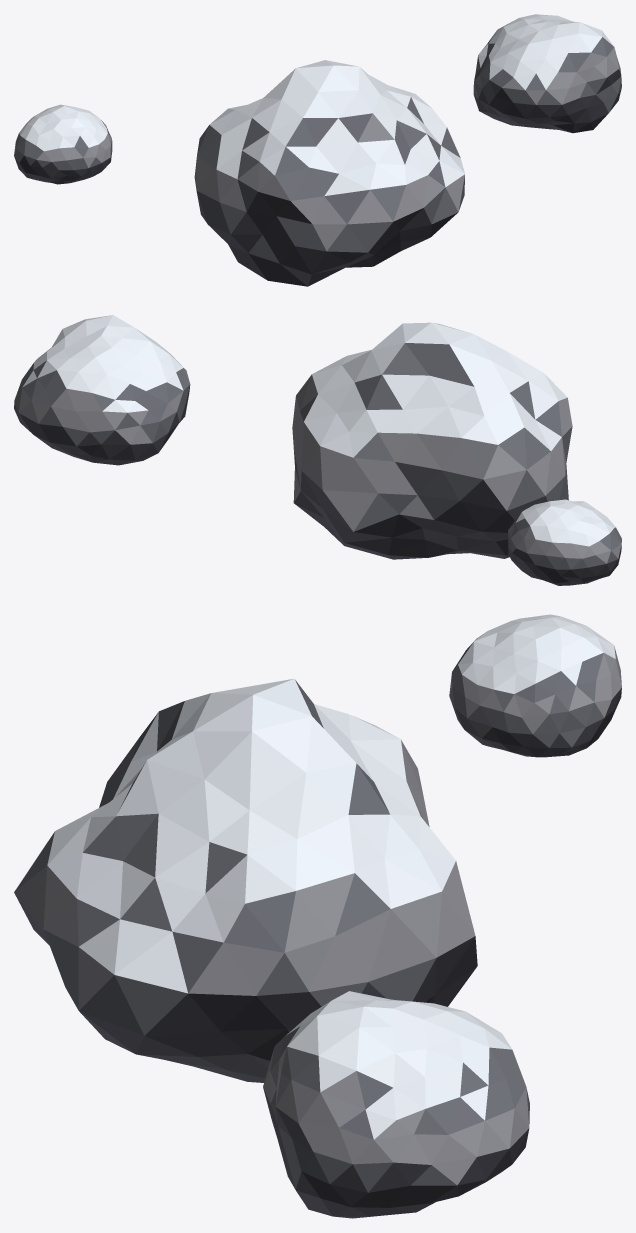
The model's file is rock_cluster.obj.
The picture shows the model from 3 angles, top to bottom: view 1: azimuth 30°, elevation 25°; view 2: azimuth 150°, elevation 25°; view 3: azimuth 270°, elevation 25°; orthographic projection. The views are drawn at different scales.
Visible parts, largest first — view 1: rock_cluster; view 2: rock_cluster; view 3: rock_cluster.
Part boxes in pixels (x1,y1,x2,y2): rock_cluster: [14, 14, 621, 286]; rock_cluster: [14, 315, 621, 585]; rock_cluster: [14, 614, 621, 1218].
Size of the model in its own units: 20.09 by 7.03 by 10.25.
1 material, 1 textured.
